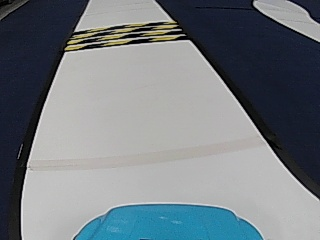bump: (79, 21, 173, 50)
